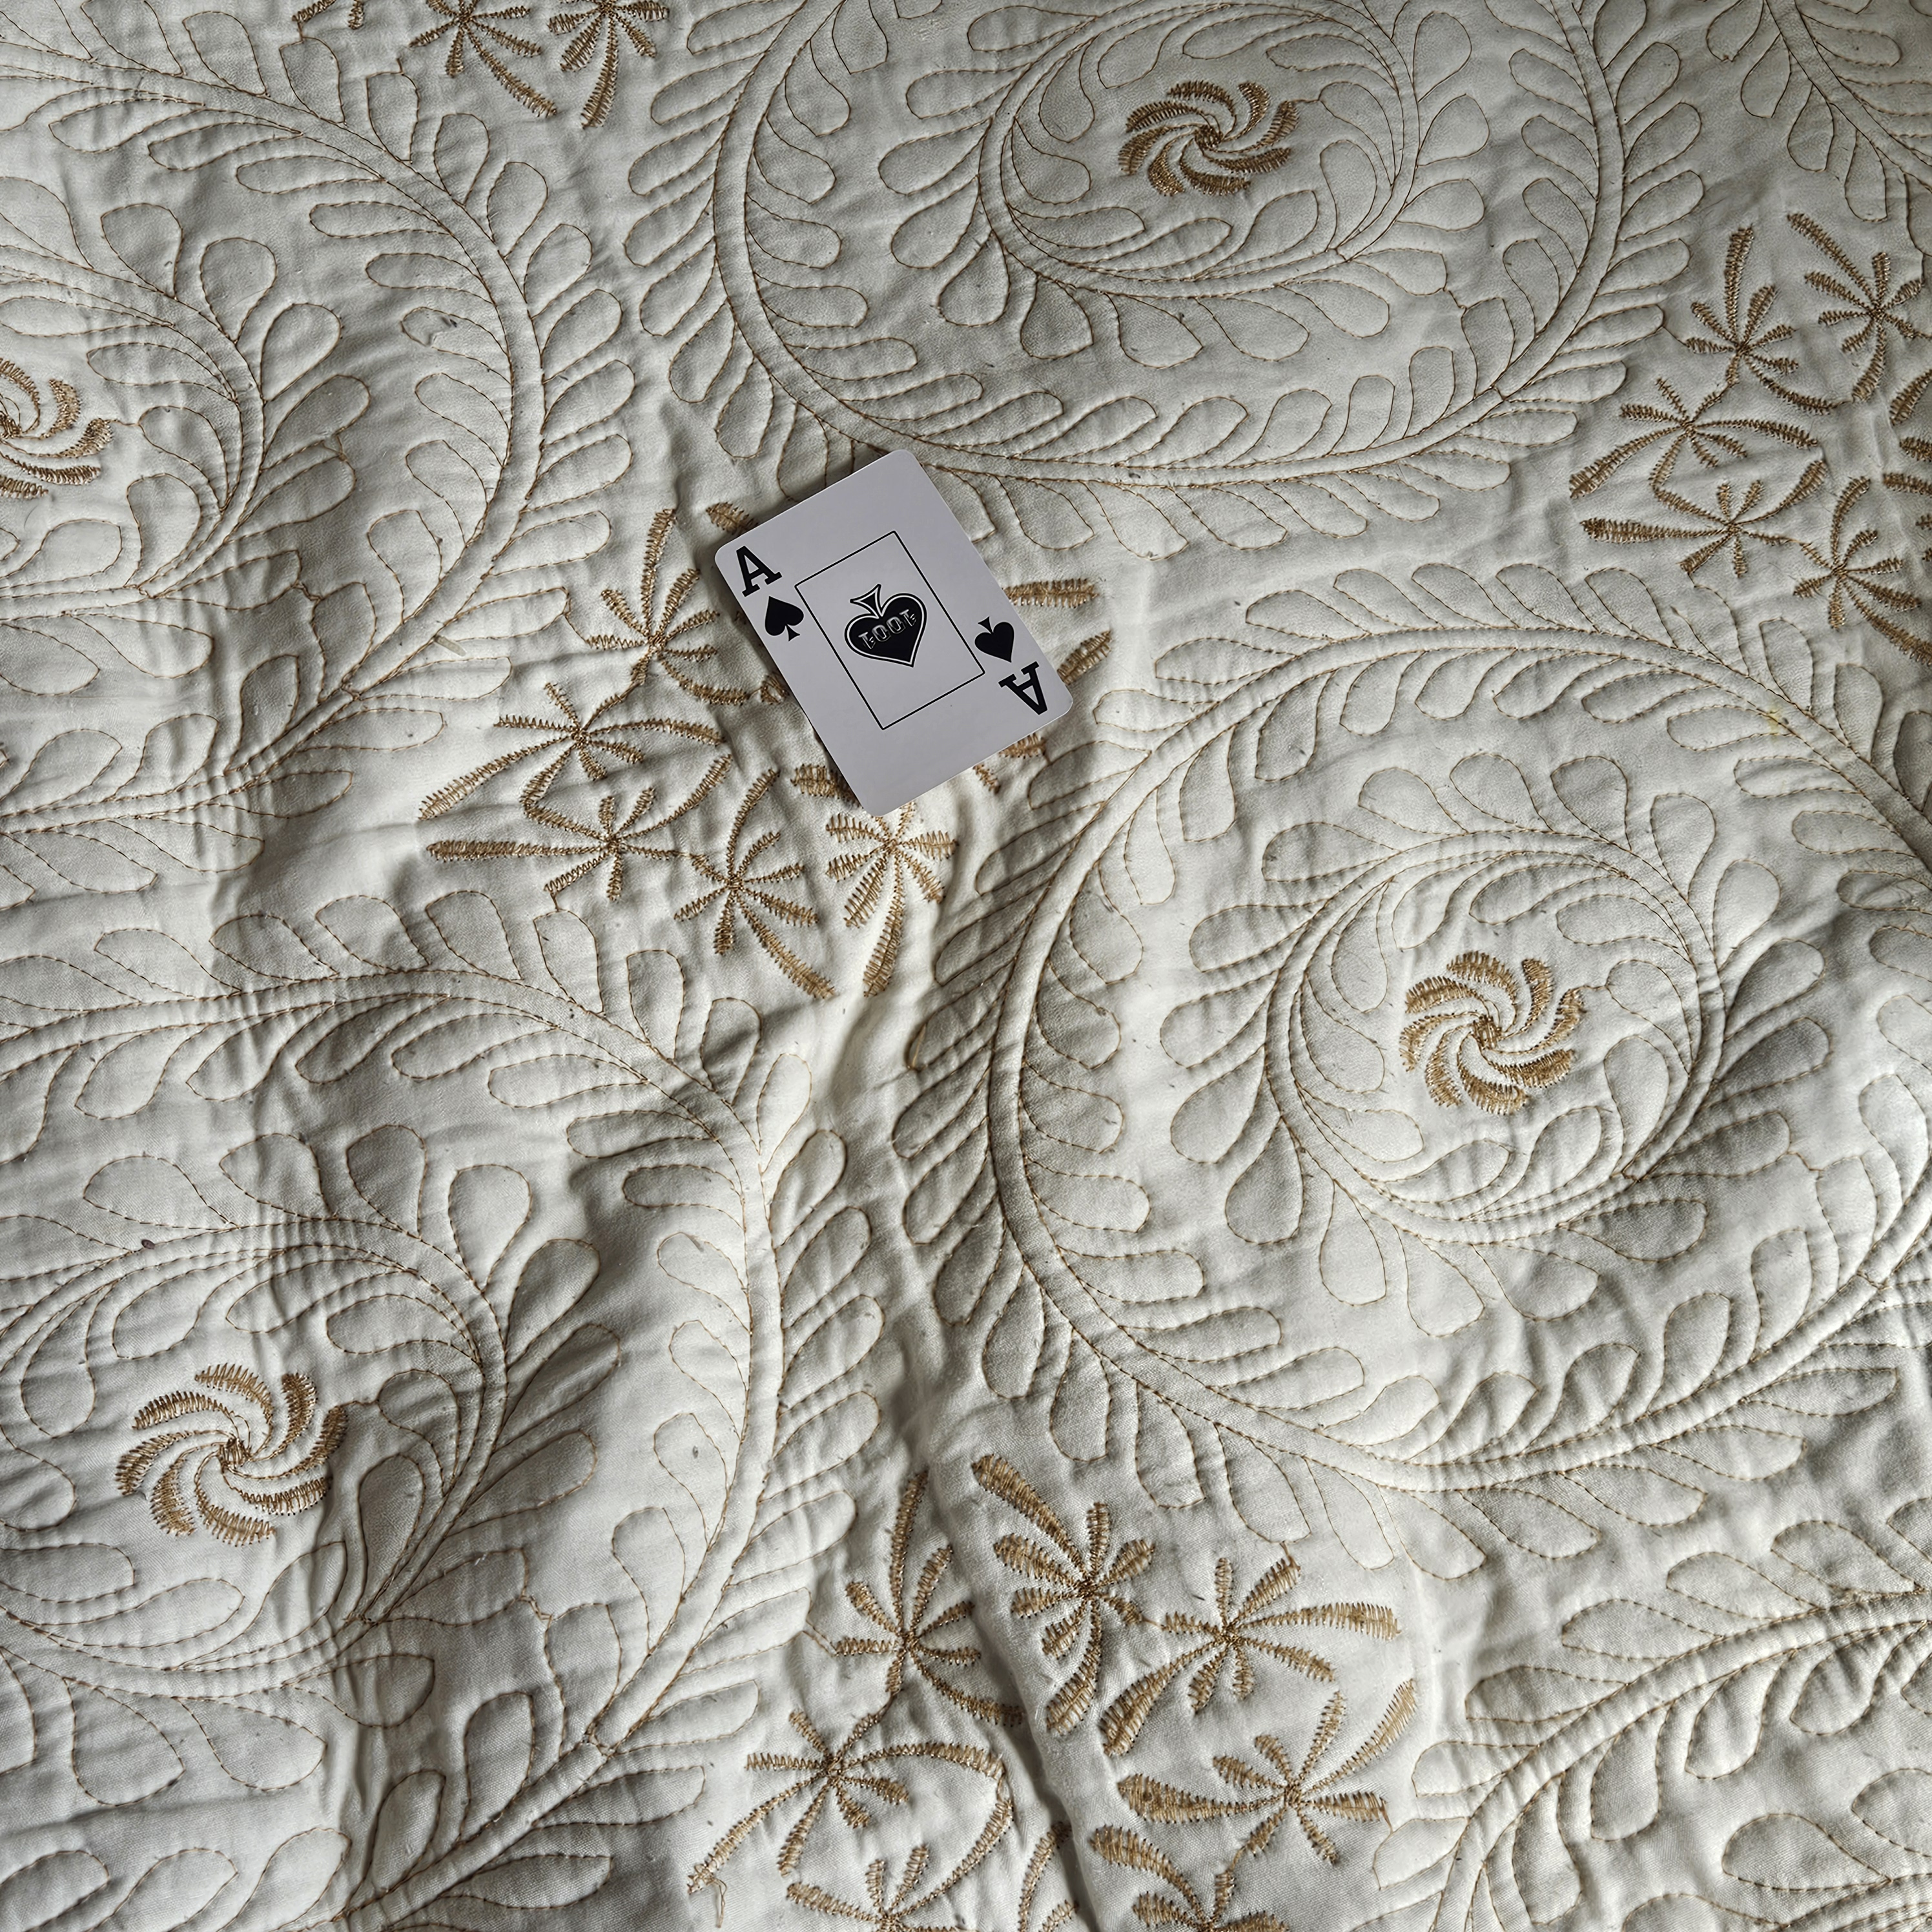AE: (966, 598, 1065, 732), (722, 534, 816, 653)
